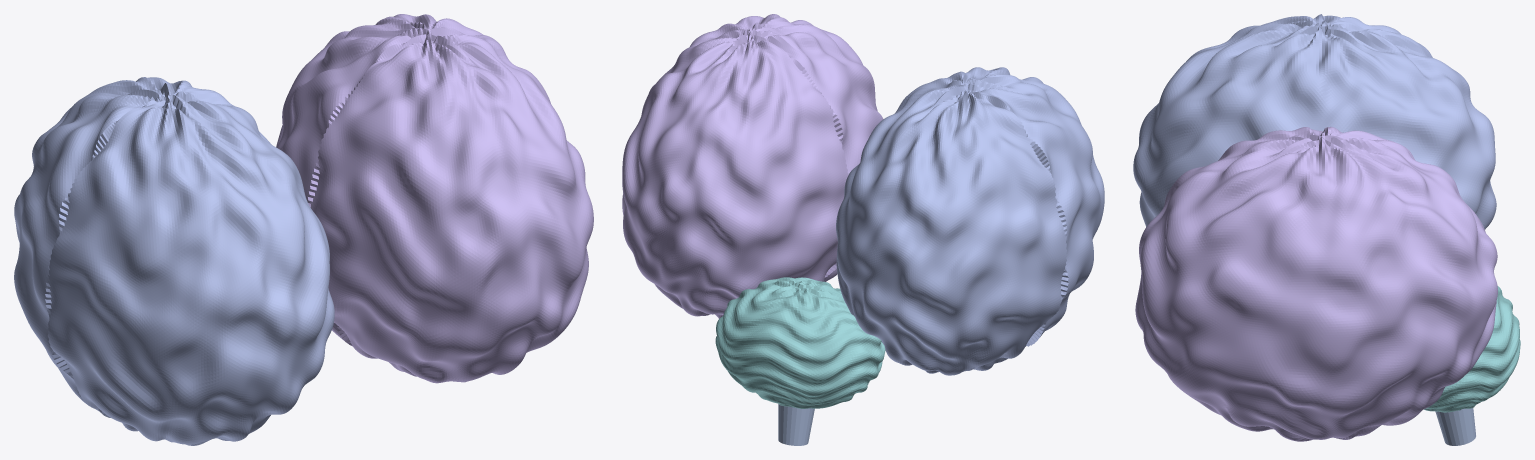
File: conceptual-brain.glb
3 renders of one model, left to right at view 1: azimuth 30°, elevation 25°; view 2: azimuth 150°, elevation 25°; view 3: azimuth 270°, elevation 25°, orthographic. The views are drawn at different scales.
Parts seen in each view (by area): view 1: left_cerebral_hemisphere, right_cerebral_hemisphere; view 2: left_cerebral_hemisphere, right_cerebral_hemisphere, cerebellum_reference, brainstem_reference; view 3: right_cerebral_hemisphere, left_cerebral_hemisphere, cerebellum_reference, brainstem_reference.
Boxes of the visible parts, left/top/right/bottom form: left_cerebral_hemisphere: left=14, top=77, right=334, bottom=445; right_cerebral_hemisphere: left=276, top=14, right=593, bottom=383; left_cerebral_hemisphere: left=836, top=67, right=1104, bottom=375; right_cerebral_hemisphere: left=622, top=14, right=883, bottom=318; cerebellum_reference: left=715, top=277, right=885, bottom=408; brainstem_reference: left=778, top=404, right=814, bottom=445; right_cerebral_hemisphere: left=1135, top=126, right=1497, bottom=441; left_cerebral_hemisphere: left=1133, top=14, right=1496, bottom=229; cerebellum_reference: left=1424, top=286, right=1520, bottom=412; brainstem_reference: left=1435, top=408, right=1475, bottom=445.
Size of the model in its own units: 3.06 by 2.36 by 2.29.
